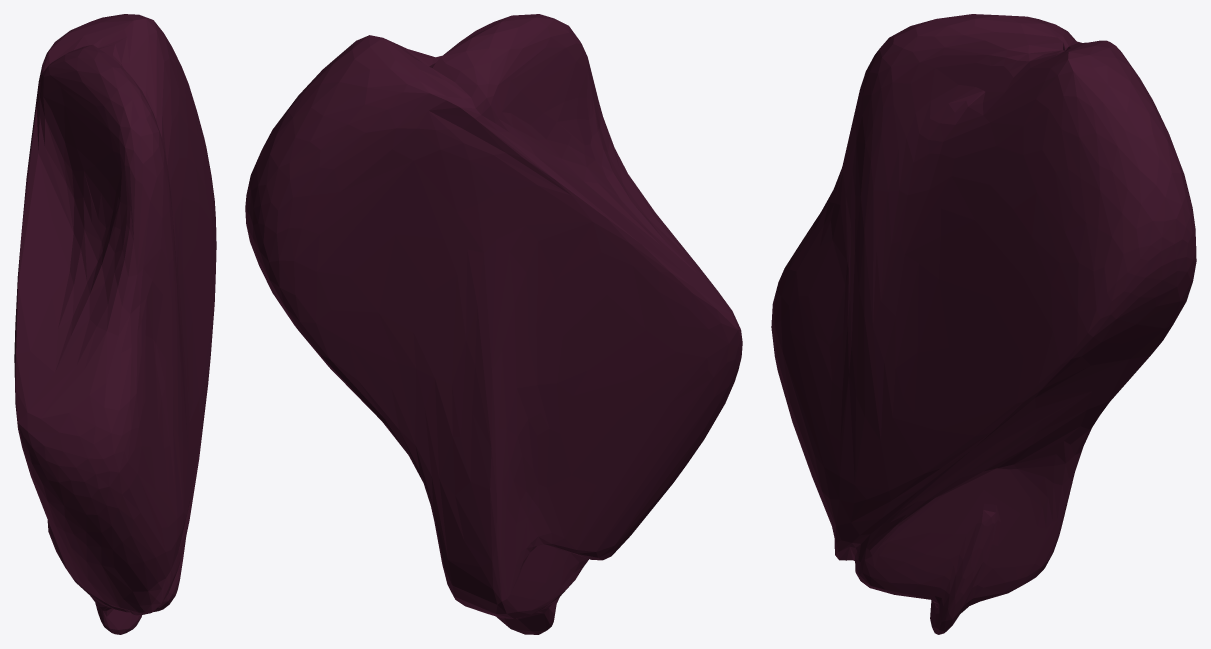
The picture shows the model from 3 angles, left to right: view 1: azimuth 30°, elevation 25°; view 2: azimuth 150°, elevation 25°; view 3: azimuth 270°, elevation 25°; orthographic projection. The views are drawn at different scales.
Visible parts, largest first — view 1: 636_Cube.2559; view 2: 636_Cube.2559; view 3: 636_Cube.2559.
Boxes of the visible parts, box(x1,y1,x2,y2) form: 636_Cube.2559: box(14, 14, 216, 634); 636_Cube.2559: box(245, 14, 742, 634); 636_Cube.2559: box(771, 14, 1196, 634).
Bounding box in the file's own units: 7.42 × 12.81 × 7.99.
